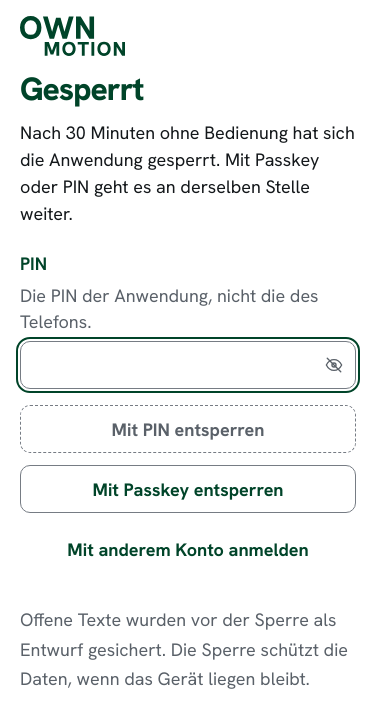
Scenario: Sperrseite: Passkey von selbst, App-PIN dahinter (ADR-025 Punkt 11 Fassung 3) › sagt im Funkloch „keine Verbindung“ statt „PIN passt nicht“ (BEF-047)
Type "483920" into the password field labelled "PIN". click: (188,366)
box: [20,342,356,390]
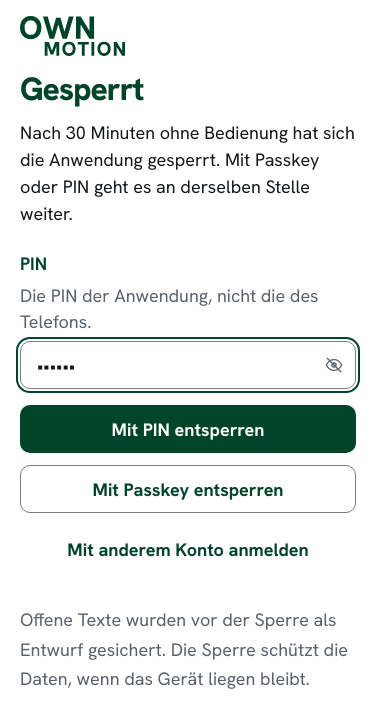
Click the button "Mit PIN entsperren". click: (188,430)
box: [20,406,356,454]
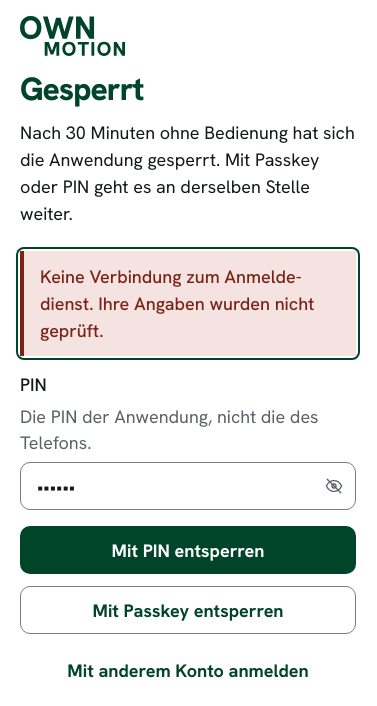
Now the text "Keine Verbindung zum Anmeldedienst. Ihre Angaben wurden nicht geprüft." is shown, box [40,263,340,344]
